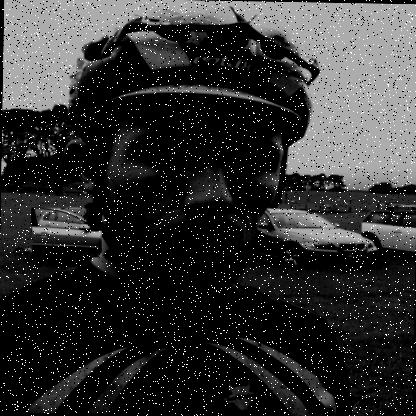Car: (256, 208, 383, 270), (30, 207, 102, 258), (360, 203, 415, 256)
